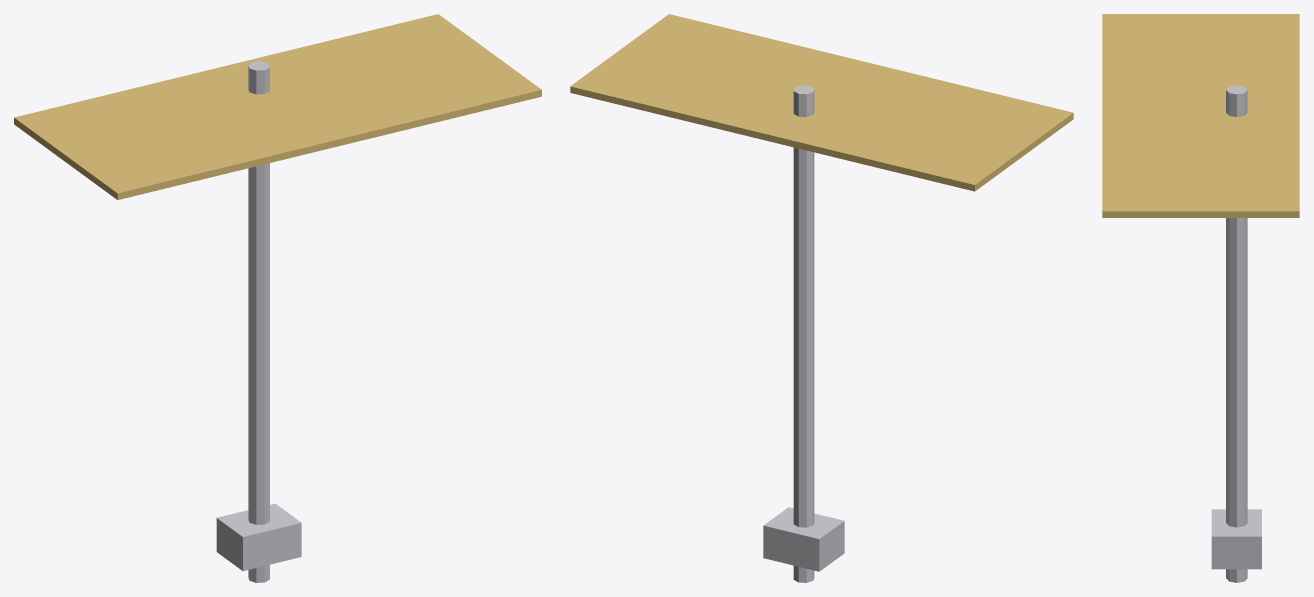
File: moon-solar-wind.gltf
3 views of the same model, side by side, from view 1: azimuth 30°, elevation 25°; view 2: azimuth 150°, elevation 25°; view 3: azimuth 270°, elevation 25° (orthographic). The views are drawn at different scales.
Parts seen in each view (by area): view 1: gold, moon-solar-wind; view 2: gold, moon-solar-wind; view 3: gold, moon-solar-wind.
Boxes of the visible parts, bbox=[...] form: gold: bbox=[14, 14, 541, 199]; moon-solar-wind: bbox=[216, 61, 301, 582]; gold: bbox=[570, 14, 1073, 191]; moon-solar-wind: bbox=[763, 85, 844, 582]; gold: bbox=[1102, 14, 1299, 217]; moon-solar-wind: bbox=[1211, 85, 1261, 582].
Size of the model in its own units: 1.3 by 1.5 by 0.55.
